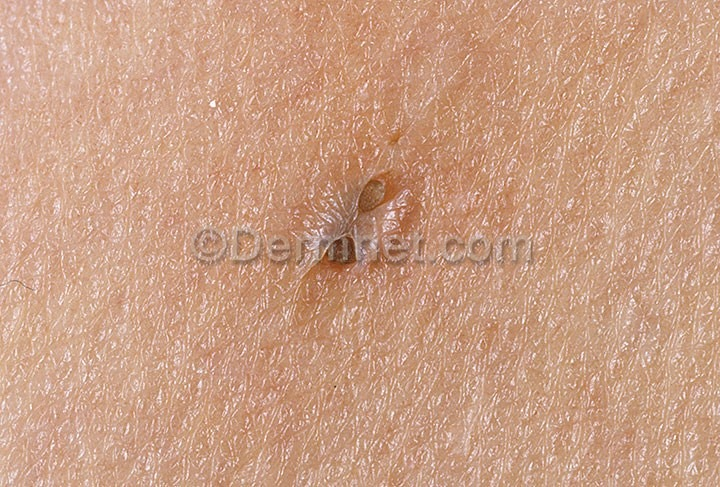Acne: (278, 152, 442, 322)
